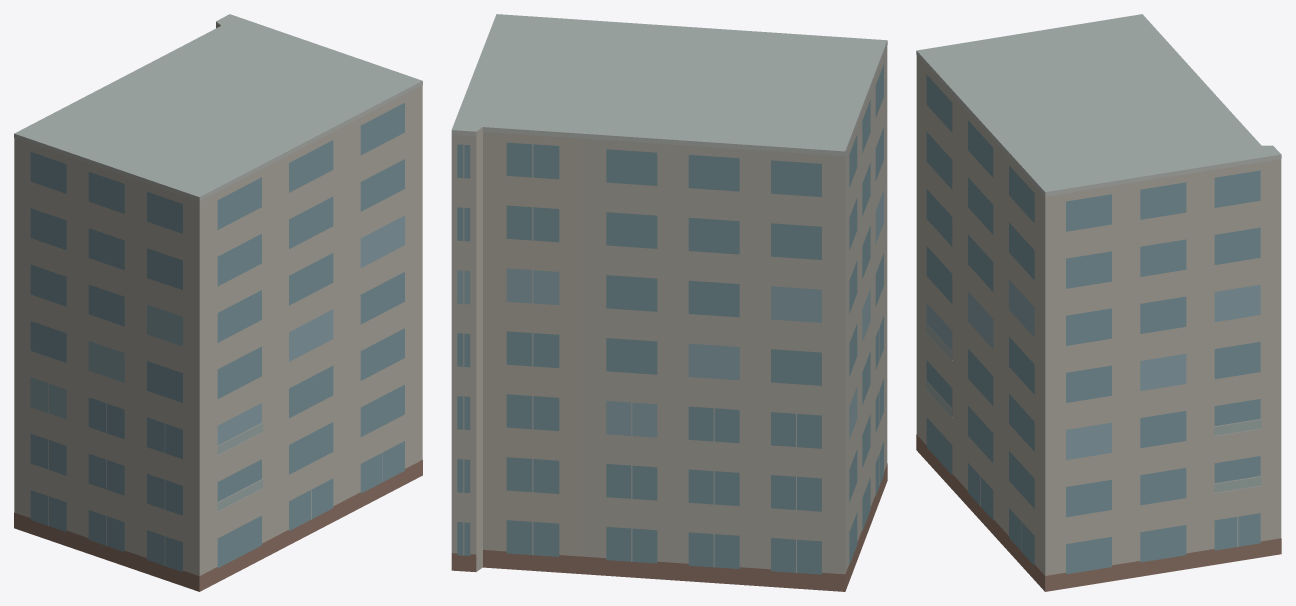
Rendered from survey-upis-32950123.glb.
The picture shows the model from 3 angles, left to right: view 1: azimuth 30°, elevation 25°; view 2: azimuth 150°, elevation 25°; view 3: azimuth 270°, elevation 25°; orthographic projection. The views are drawn at different scales.
Parts seen in each view (by area): view 1: survey-upis-32950123.tmp; view 2: survey-upis-32950123.tmp; view 3: survey-upis-32950123.tmp.
Boxes of the visible parts, left/top/right/bottom form: survey-upis-32950123.tmp: left=14, top=14, right=422, bottom=591; survey-upis-32950123.tmp: left=451, top=14, right=887, bottom=591; survey-upis-32950123.tmp: left=916, top=14, right=1281, bottom=591.
Size of the model in its own units: 20.85 by 21.8 by 18.05.
